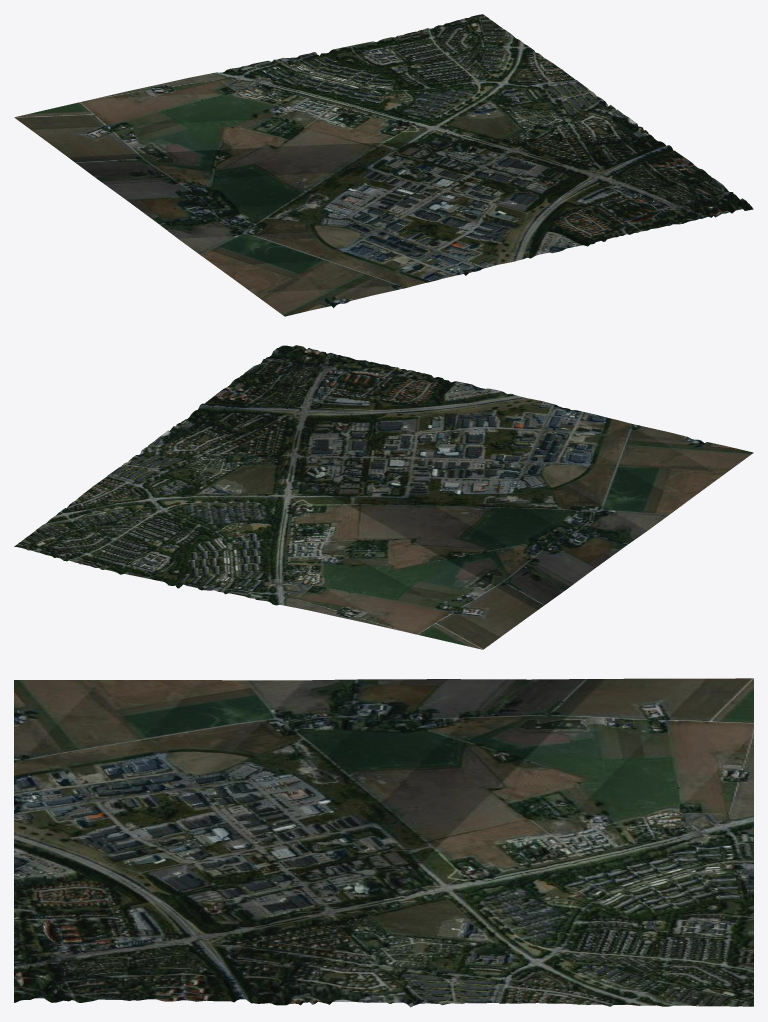
The model's file is map_10_255_432.dae.
3 views of the same model, one above another, from view 1: azimuth 30°, elevation 25°; view 2: azimuth 150°, elevation 25°; view 3: azimuth 270°, elevation 25° (orthographic). The views are drawn at different scales.
Visible parts, largest first — view 1: Ter0; view 2: Ter0; view 3: Ter0.
Part boxes in pixels (x1=…): Ter0: x1=14, y1=14, x2=753, y2=316; Ter0: x1=14, y1=345, x2=753, y2=649; Ter0: x1=14, y1=678, x2=753, y2=1007.
Size of the model in its own units: 2044 by 2044 by 57.67.
Materials: 2 (2 with a texture image).
